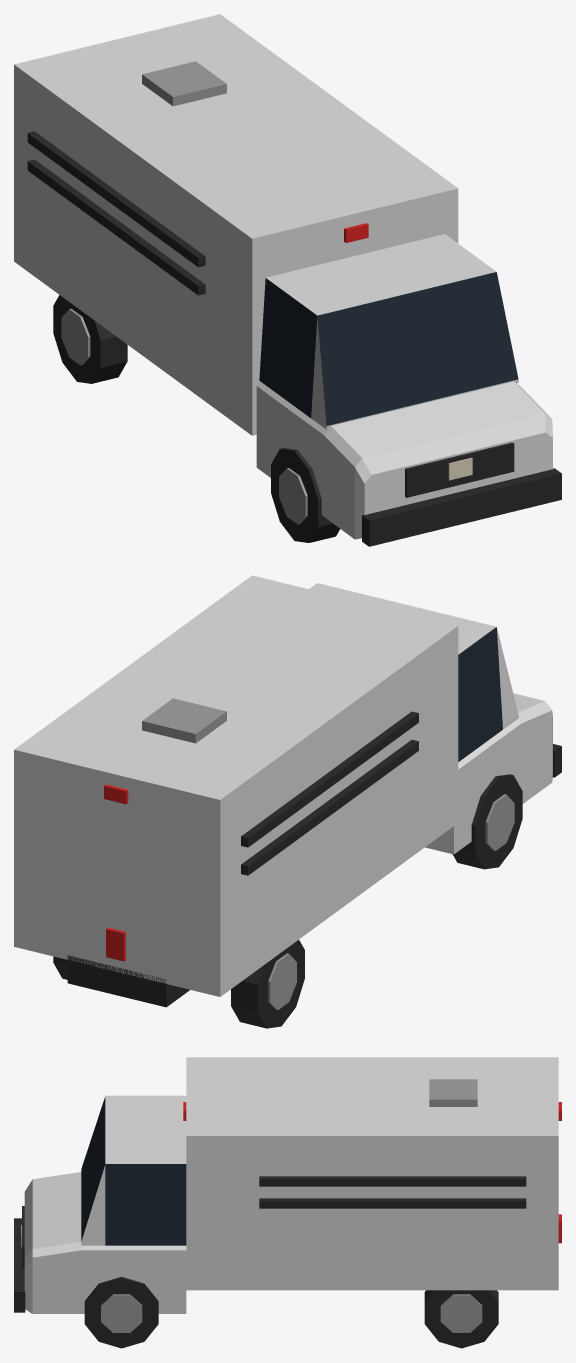
File: voiture_fourgon.glb
The picture shows the model from 3 angles, top to bottom: view 1: azimuth 30°, elevation 25°; view 2: azimuth 150°, elevation 25°; view 3: azimuth 270°, elevation 25°; orthographic projection. The views are drawn at different scales.
Visible parts, largest first — view 1: voiture_fourgon; view 2: voiture_fourgon; view 3: voiture_fourgon.
Part boxes in pixels (x1,y1,x2,y2): voiture_fourgon: [14, 14, 561, 546]; voiture_fourgon: [14, 575, 561, 1028]; voiture_fourgon: [14, 1057, 561, 1348].
Size of the model in its own units: 2.46 by 3 by 6.77.
